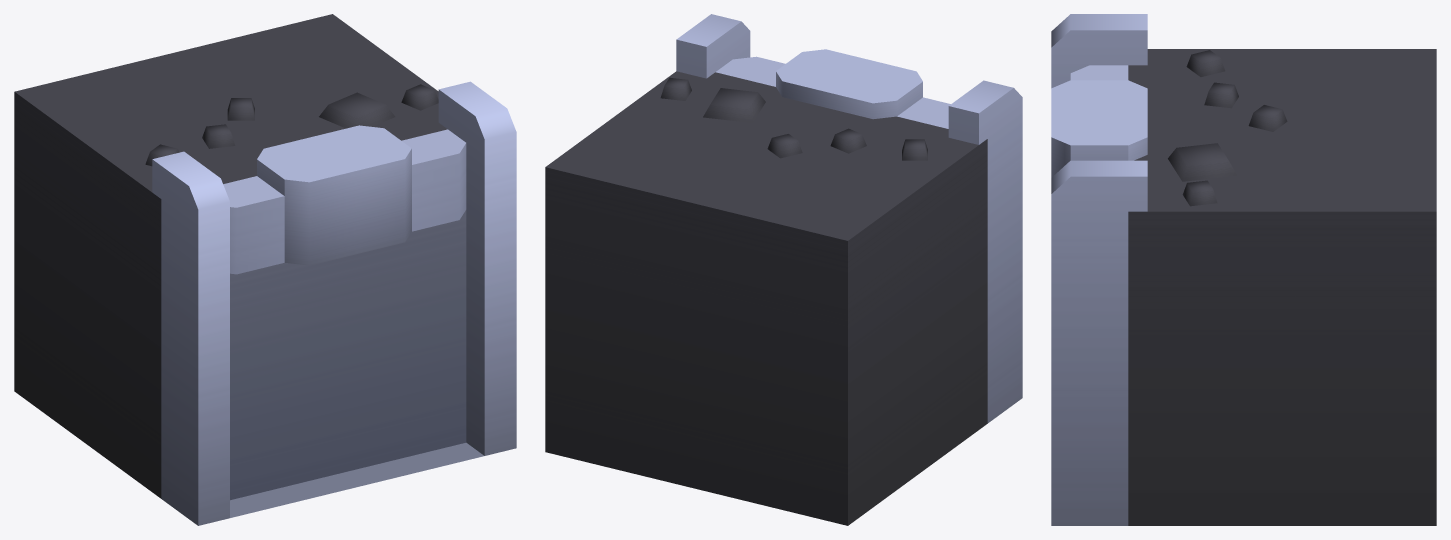
File: wall-half.gltf
3 views of the same model, side by side, from view 1: azimuth 30°, elevation 25°; view 2: azimuth 150°, elevation 25°; view 3: azimuth 270°, elevation 25° (orthographic). The views are drawn at different scales.
Parts seen in each view (by area): view 1: wall_half; view 2: wall_half; view 3: wall_half.
Boxes of the visible parts, x1,y1,x2,y2 form: wall_half: (14,14,516,525); wall_half: (545,14,1022,525); wall_half: (1051,14,1436,525).
Bounding box in the file's own units: 1 × 1 × 1.
Materials: 1 (1 with a texture image).
